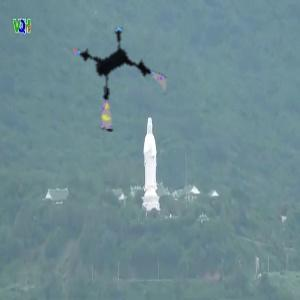drone: (67, 29, 171, 133)
